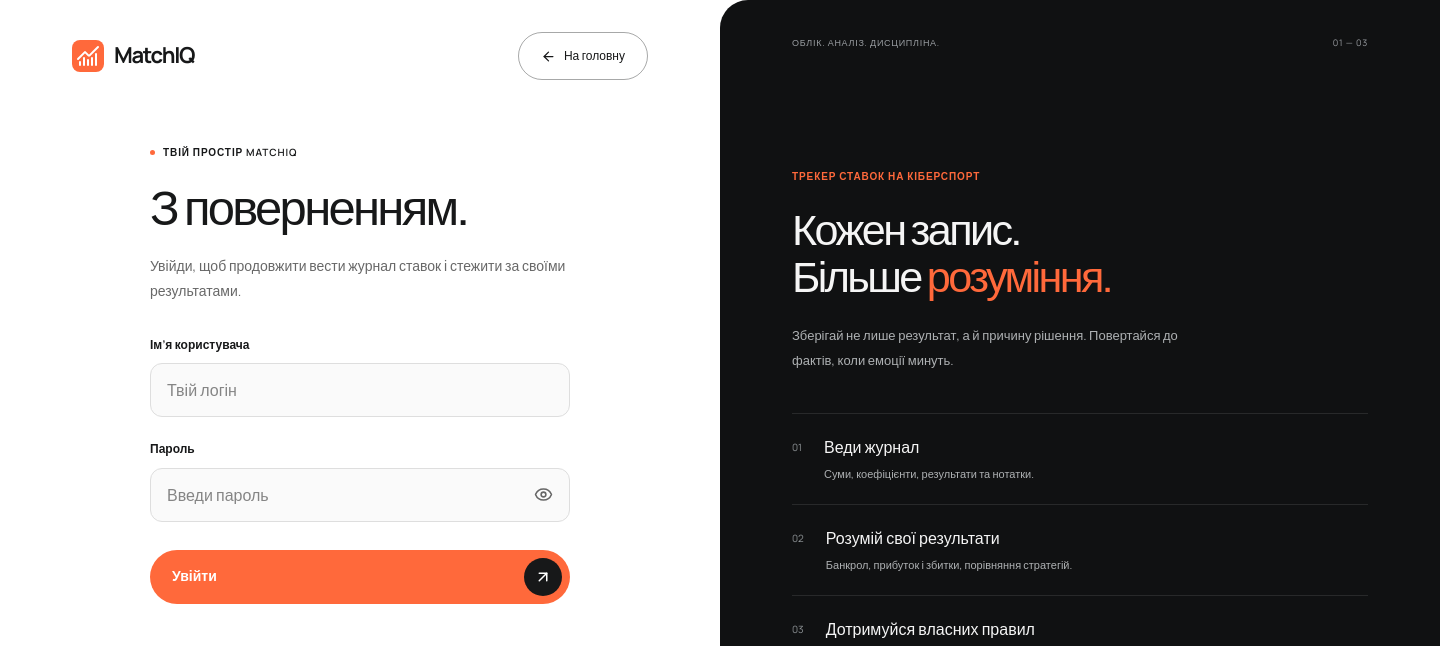
Scenario: Login page › toggles password visibility without submitting
The image size is (1452, 646).
Type "sample" into the field labelled "Ім’я користувача" at (360, 390), box [150,363,570,417]
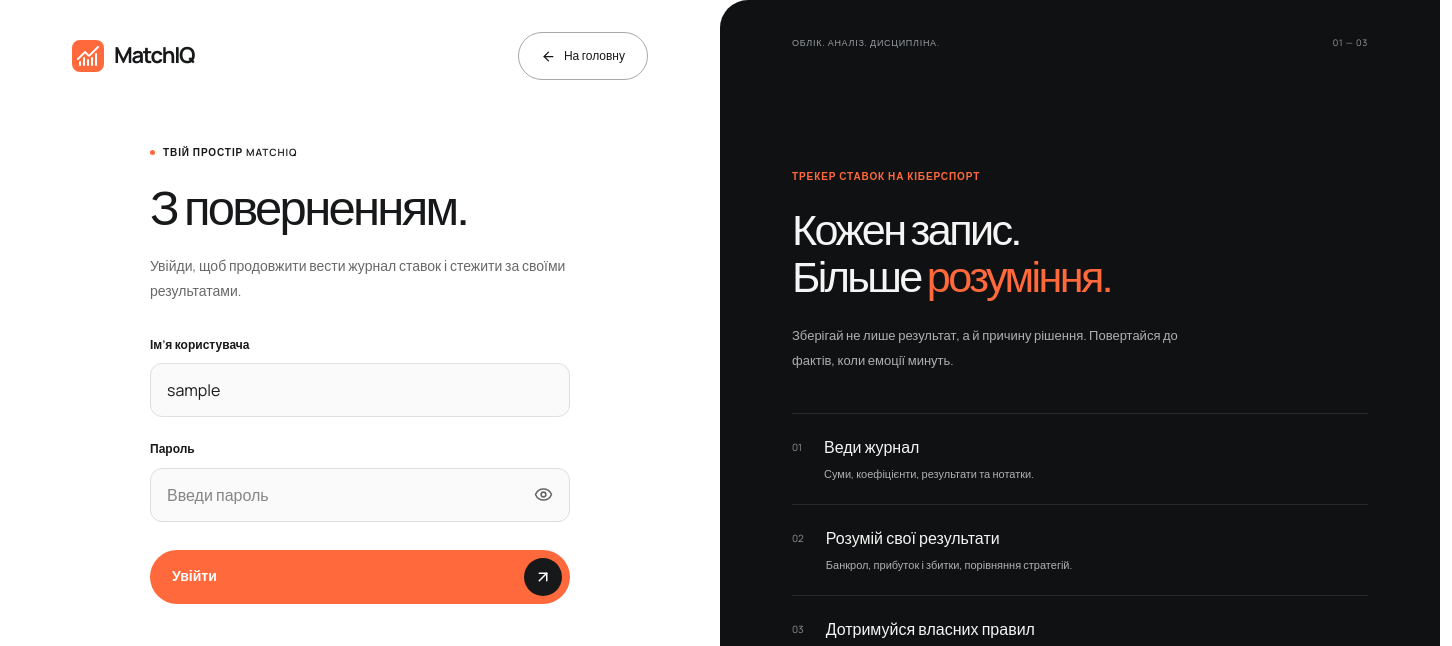
Type "test-password" into the password field labelled "Пароль" at (360, 495), box [150,468,570,522]
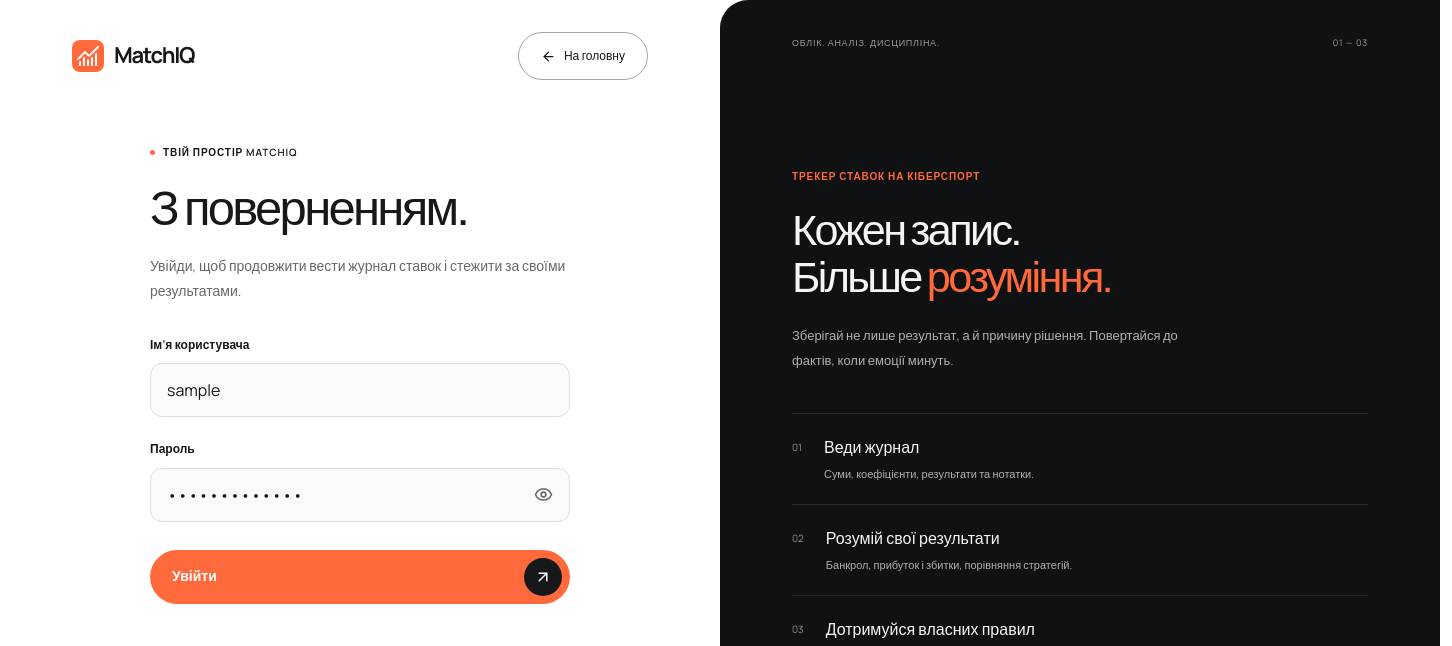
Click the button named "Показати пароль" at (543, 495), box [521,473,565,517]
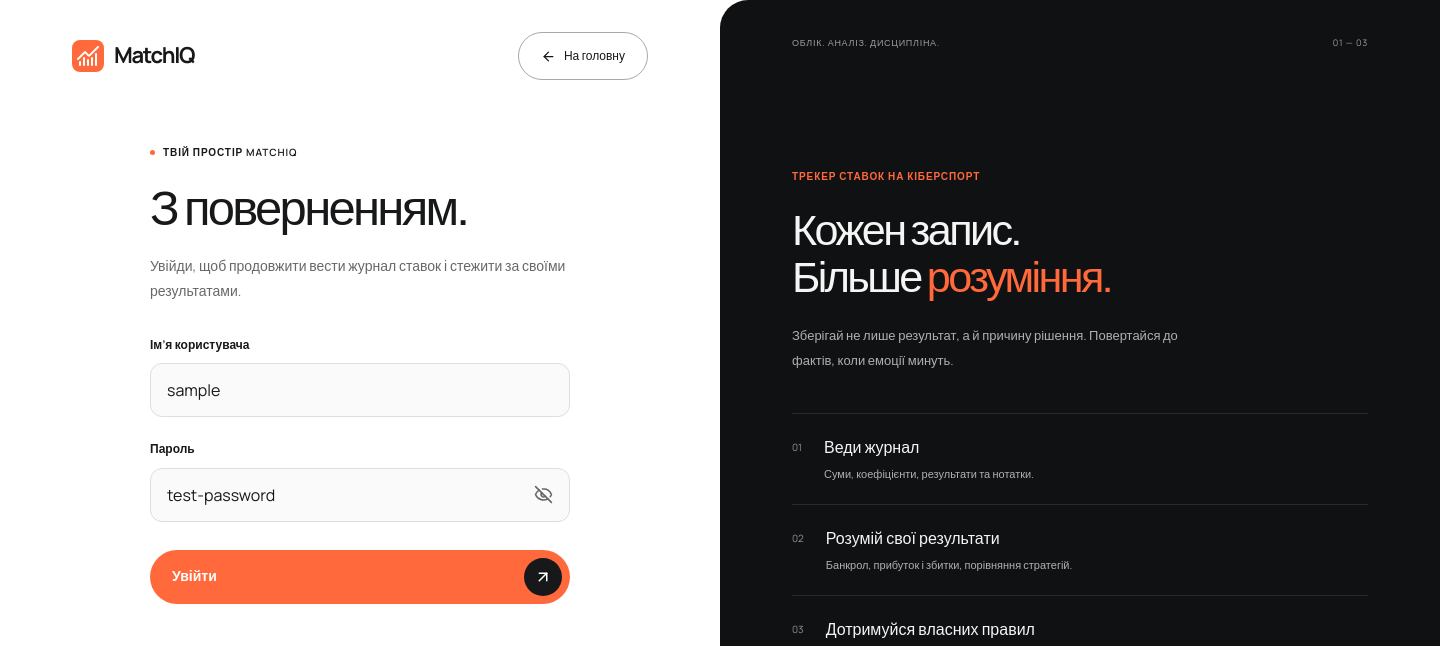
Expected: the field labelled "Пароль" shows its text, [150,468,570,522]
Click the button named "Приховати пароль" at (543, 495), box [521,473,565,517]
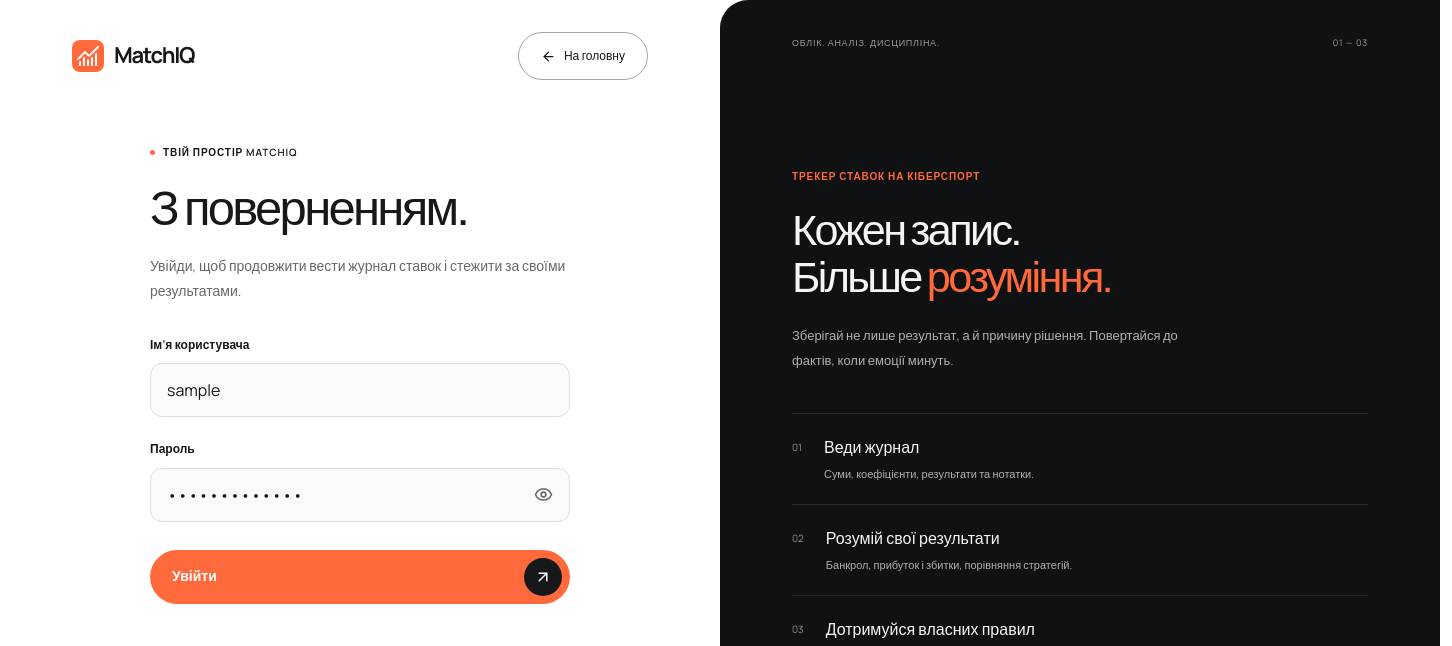
Expected: the password field labelled "Пароль" hides its text, [150,468,570,522]
